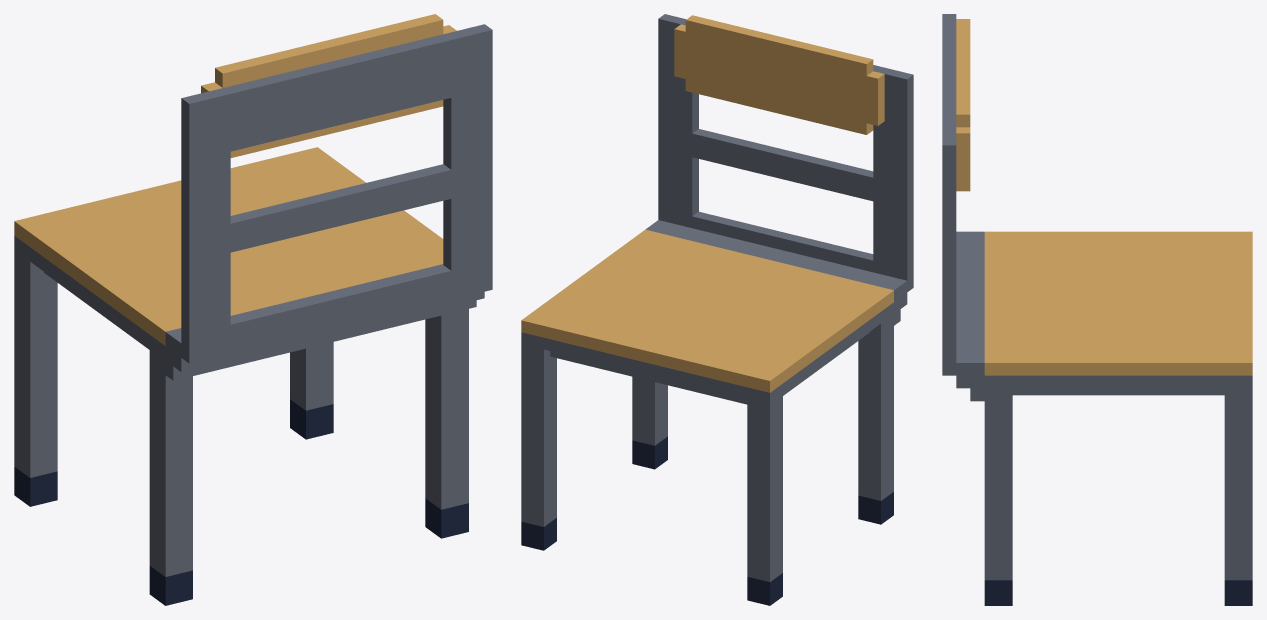
File: student_chair.obj
3 renders of one model, left to right at view 1: azimuth 30°, elevation 25°; view 2: azimuth 150°, elevation 25°; view 3: azimuth 270°, elevation 25°, orthographic. The views are drawn at different scales.
Size of the model in its own units: 2.2 by 3.7 by 2.2.
Materials: 1 (1 with a texture image).
